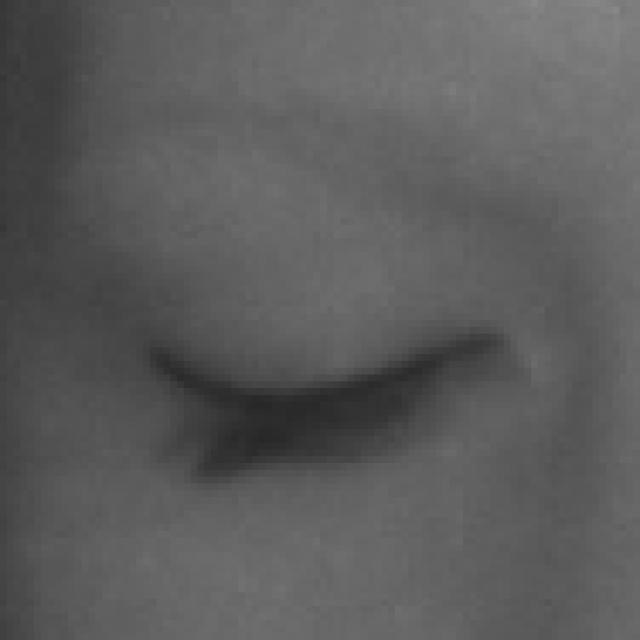Eyeclosed: (153, 209, 497, 589)
